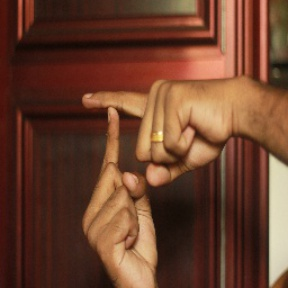T: (64, 77, 170, 213)
